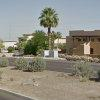Palm tree: (33, 4, 59, 46)
